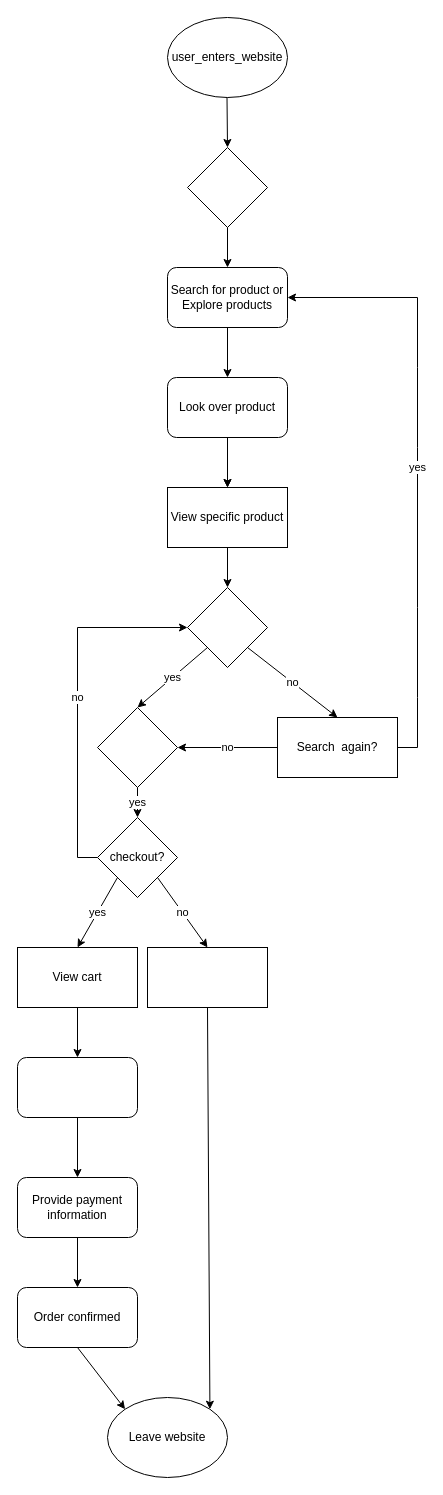
Some shapes in this 443 by 1495 pixel diagram are drawn without their labels. The centre of each missing label's shape, as x and y in pixels:
"Add to cart" goes at point (137, 747).
"Continue shopping" goes at point (227, 627).
"Do not checkout" goes at point (207, 977).
"Search or Explore" goes at point (227, 187).
"View payment" goes at point (77, 1087).
